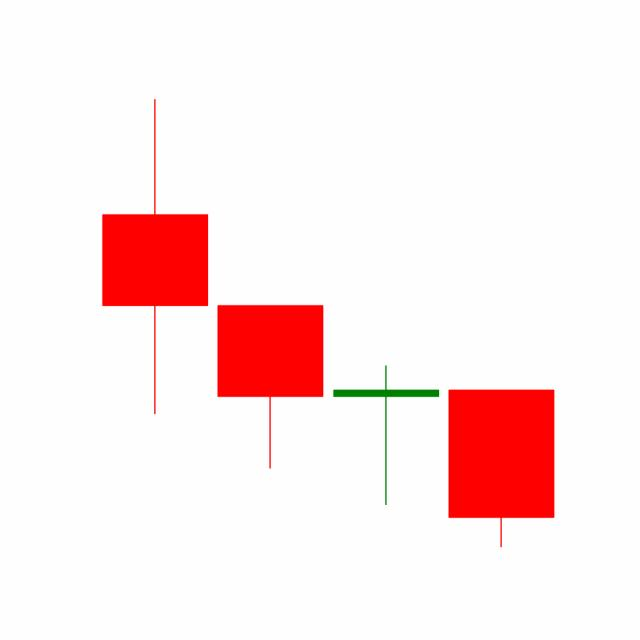Dragonfly Doji: (328, 363, 444, 507)
